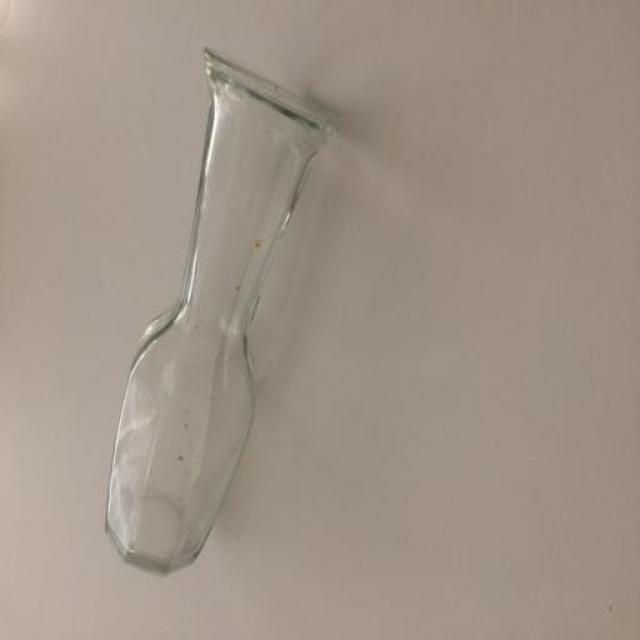Waste: (106, 48, 336, 572)
